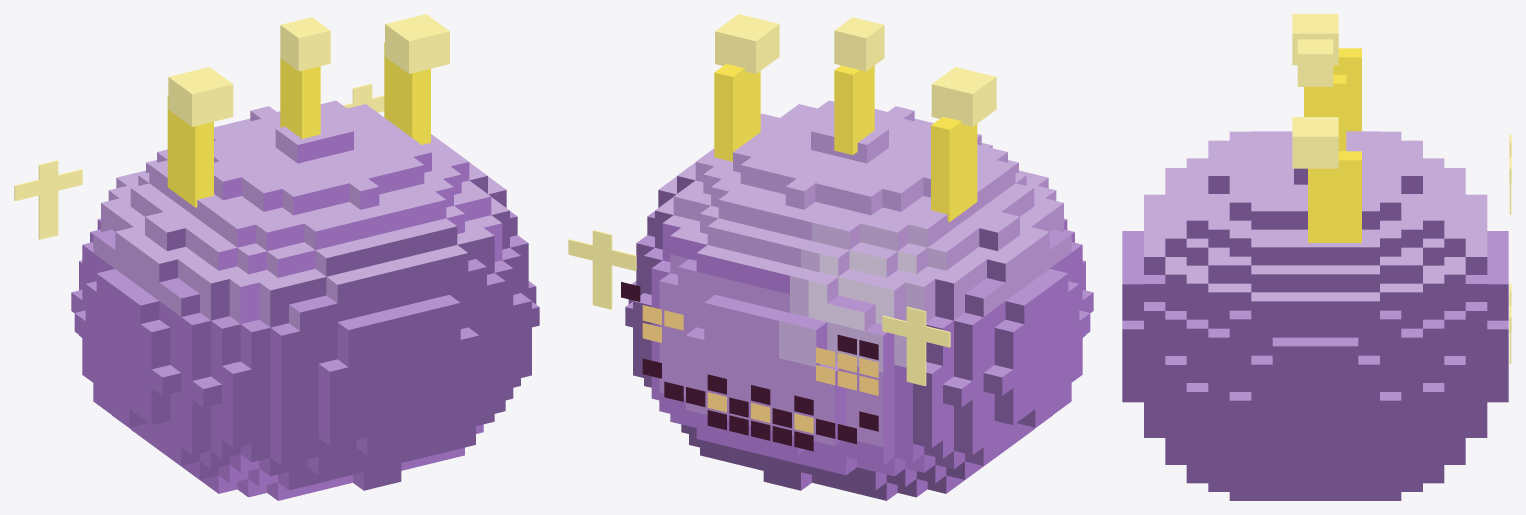
The model's file is slime_electro_mutant.glb.
3 renders of one model, left to right at view 1: azimuth 30°, elevation 25°; view 2: azimuth 150°, elevation 25°; view 3: azimuth 270°, elevation 25°, orthographic. The views are drawn at different scales.
Visible parts, largest first — view 1: Shell, ElementDetails; view 2: Shell, ElementDetails, FaceExpression; view 3: Shell, ElementDetails.
Boxes of the visible parts, x1=… form: Shell: x1=71, y1=100, x2=539, y2=500; ElementDetails: x1=14, y1=14, x2=449, y2=239; Shell: x1=625, y1=100, x2=1093, y2=500; ElementDetails: x1=568, y1=14, x2=996, y2=385; FaceExpression: x1=621, y1=282, x2=878, y2=451; Shell: x1=1122, y1=131, x2=1508, y2=500; ElementDetails: x1=1292, y1=14, x2=1511, y2=364.
Bounding box in the file's own units: 2.39 × 2.41 × 2.17.
